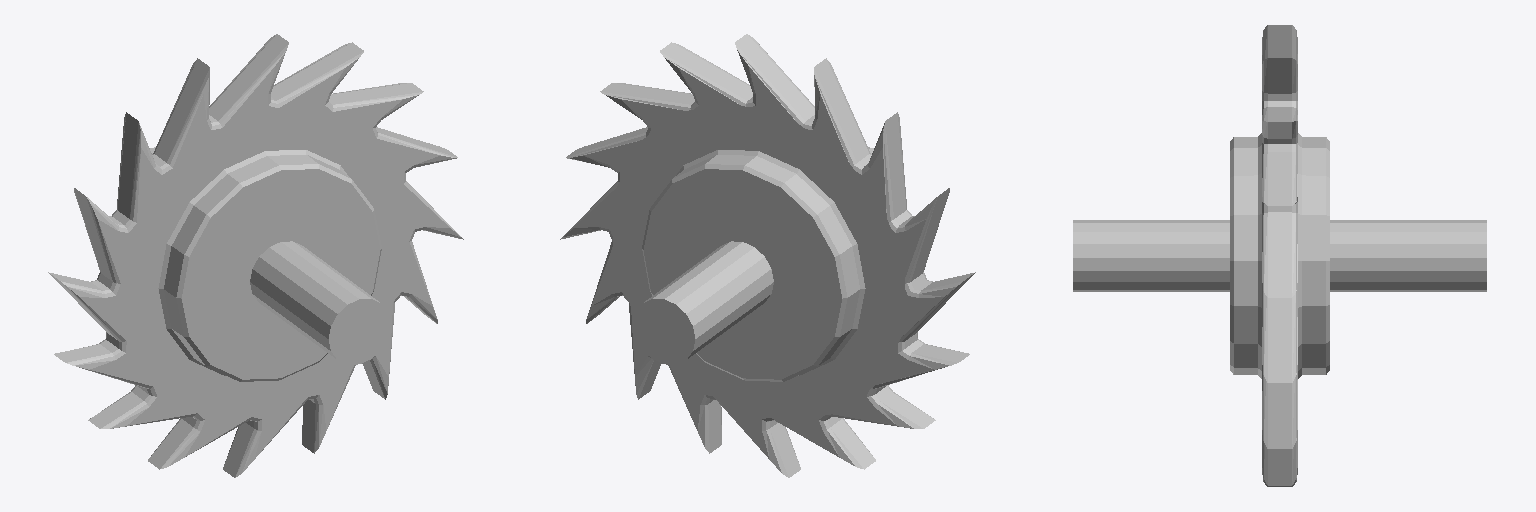
The model's file is SM_Saw.obj.
3 views of the same model, side by side, from view 1: azimuth 30°, elevation 25°; view 2: azimuth 150°, elevation 25°; view 3: azimuth 270°, elevation 25° (orthographic).
Parts seen in each view (by area): view 1: sawmill_metal.001_Mesh.003; view 2: sawmill_metal.001_Mesh.003; view 3: sawmill_metal.001_Mesh.003.
Part boxes in pixels (left/top/right/bottom): sawmill_metal.001_Mesh.003: left=48, top=34, right=463, bottom=477; sawmill_metal.001_Mesh.003: left=560, top=34, right=975, bottom=477; sawmill_metal.001_Mesh.003: left=1073, top=25, right=1486, bottom=486.
Bounding box in the file's own units: 2.2 × 2.2 × 1.95.